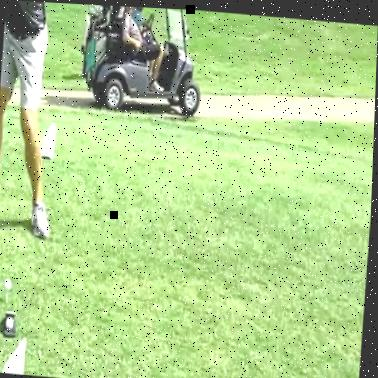ClubHead: (5, 277, 14, 293)
